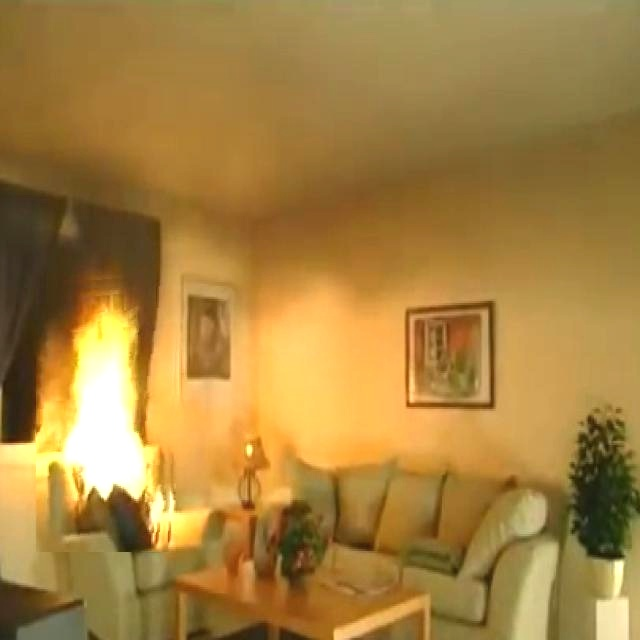fire: (51, 299, 147, 507)
